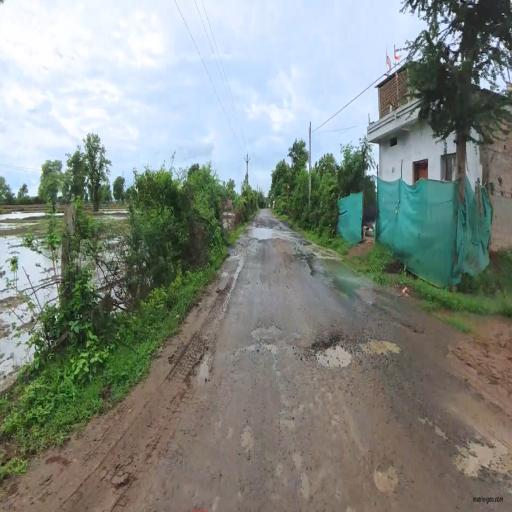pothole: (296, 303, 409, 401), (416, 395, 512, 497)
ravelling: (234, 293, 308, 512)
